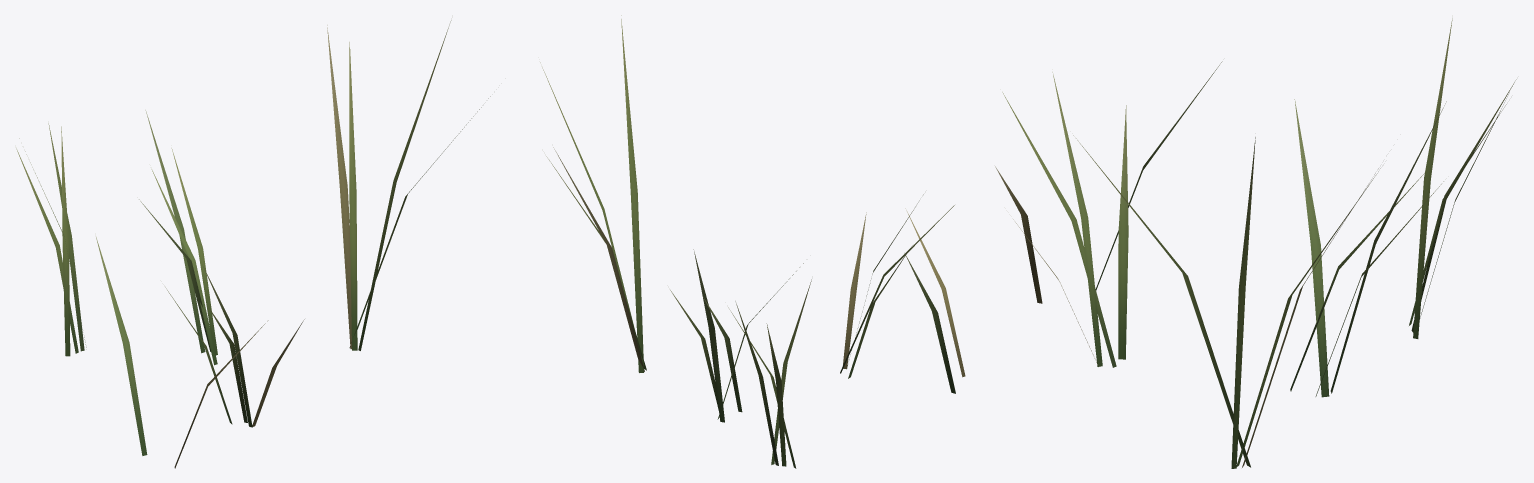
Rendered from meadow_seedheads_mid.gltf.
3 renders of one model, left to right at view 1: azimuth 30°, elevation 25°; view 2: azimuth 150°, elevation 25°; view 3: azimuth 270°, elevation 25°, orthographic. The views are drawn at different scales.
Parts seen in each view (by area): view 1: meadow_seedheads_mid; view 2: meadow_seedheads_mid; view 3: meadow_seedheads_mid.
Boxes of the visible parts, bbox=[...] form: meadow_seedheads_mid: bbox=[16, 20, 490, 468]; meadow_seedheads_mid: bbox=[540, 15, 965, 468]; meadow_seedheads_mid: bbox=[995, 18, 1516, 468].
Bounding box in the file's own units: 1.12 × 0.8774 × 1.04.
Materials: 3 (3 with a texture image).
